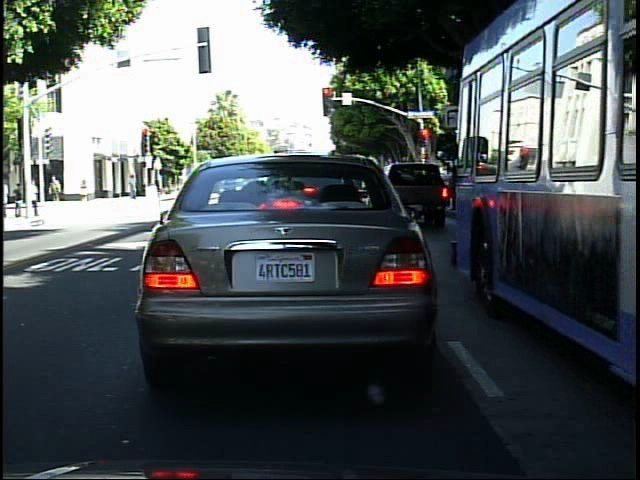person: (76, 169, 94, 207), (11, 179, 26, 221), (48, 170, 67, 203), (125, 170, 143, 204), (30, 172, 43, 216)
